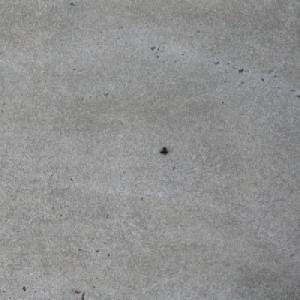BoltWasher: (158, 147, 168, 154)
